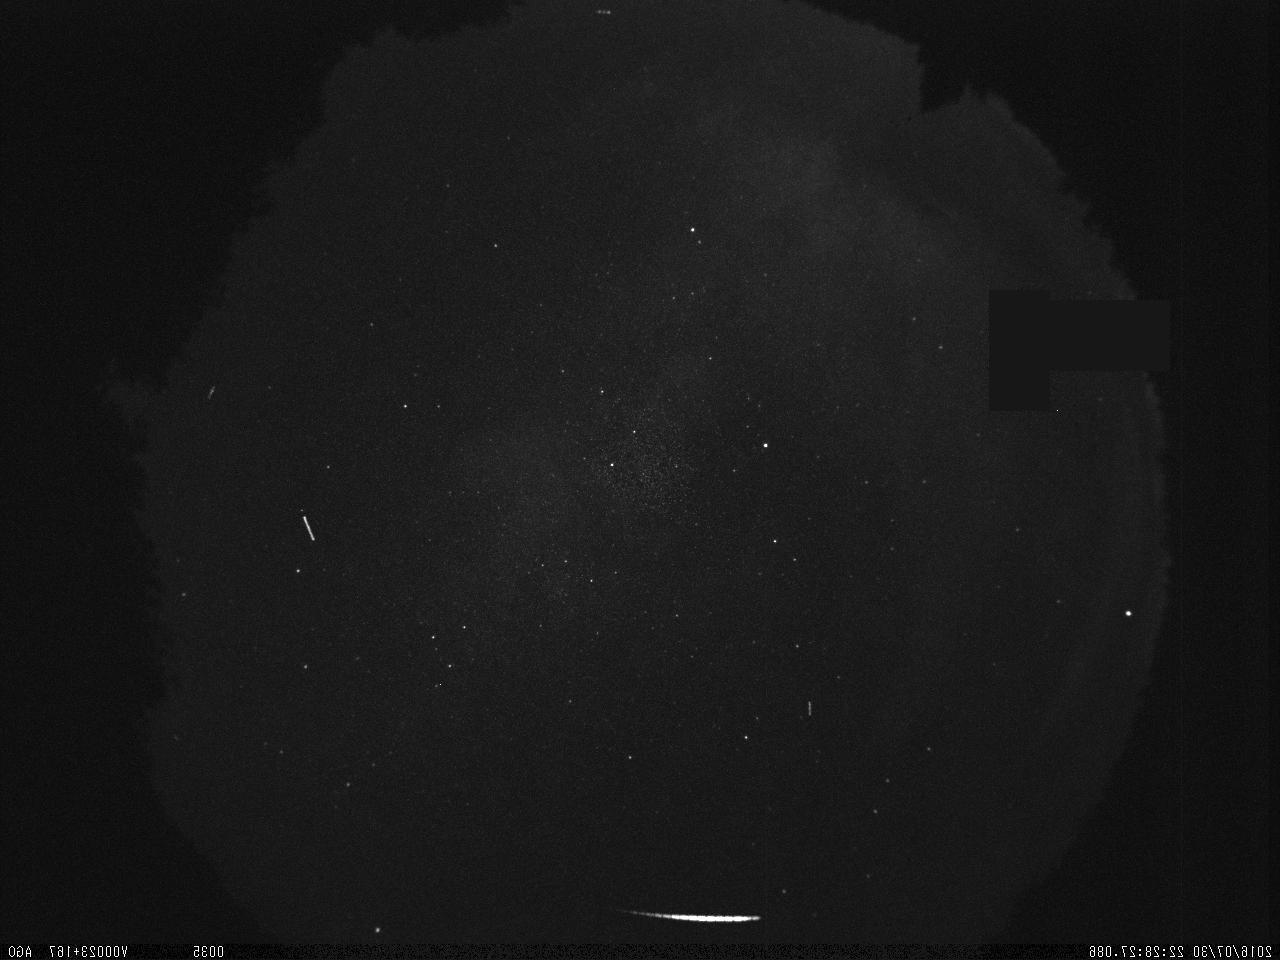meteor: (601, 903, 767, 938)
satelite: (296, 510, 324, 549)
